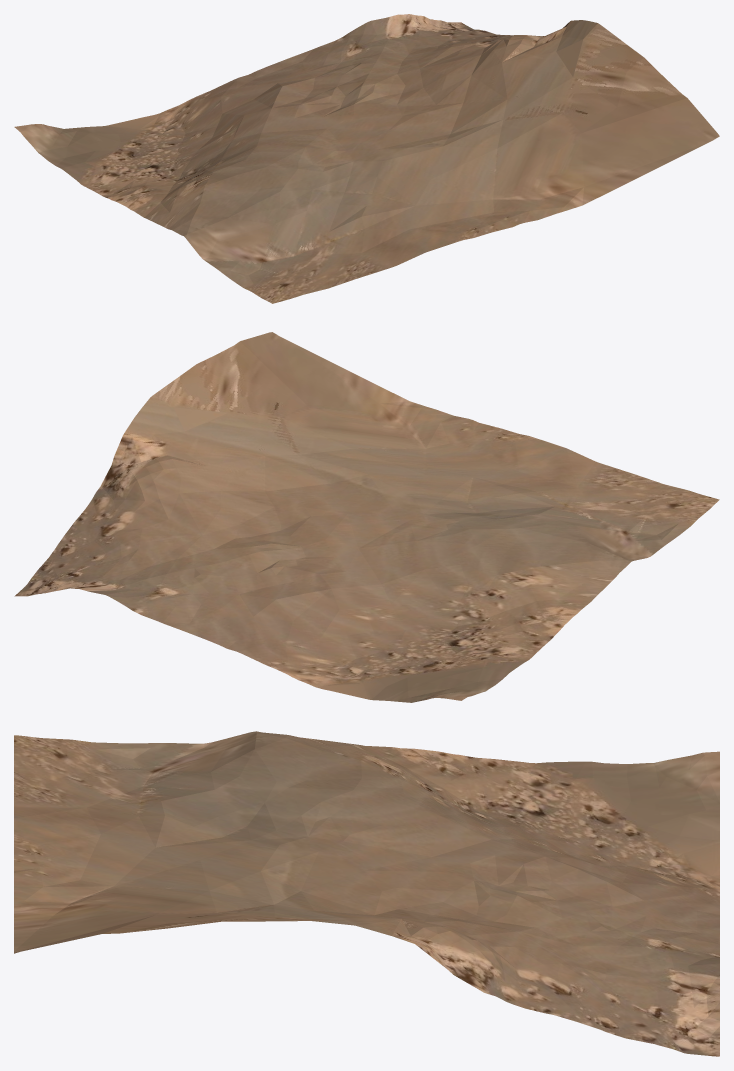
The picture shows the model from 3 angles, top to bottom: view 1: azimuth 30°, elevation 25°; view 2: azimuth 150°, elevation 25°; view 3: azimuth 270°, elevation 25°; orthographic projection. The views are drawn at different scales.
Bounding box in the file's own units: 1.04 × 0.2607 × 1.04.
2 materials, 2 textured.
